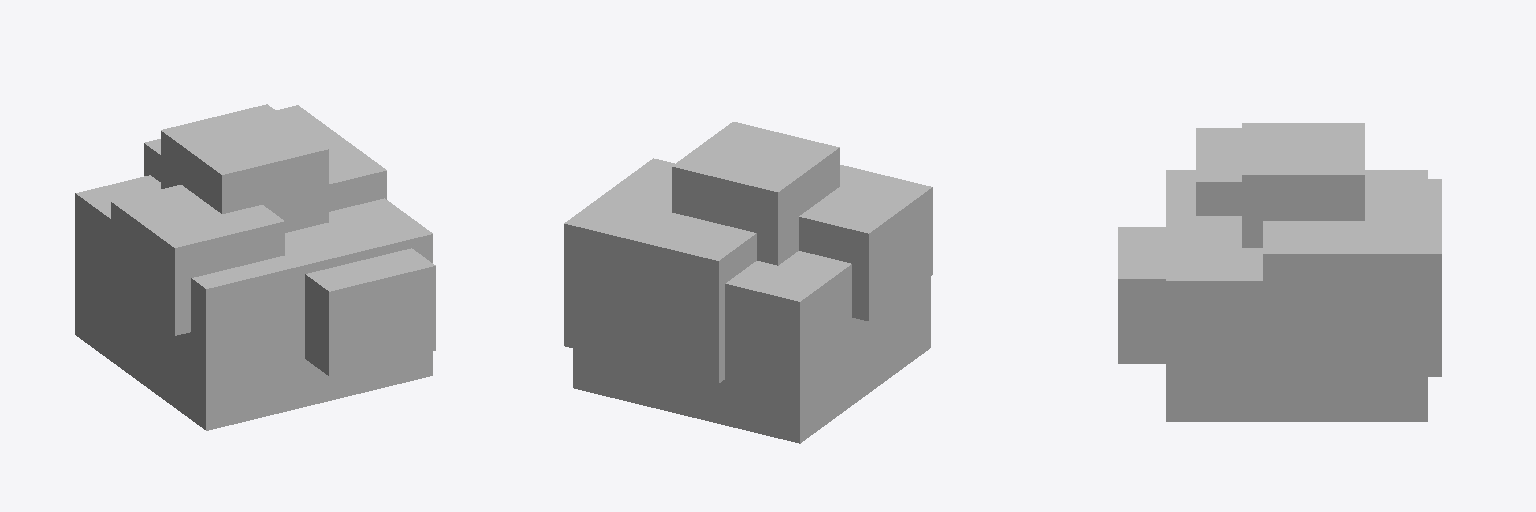
File: bush.obj
The picture shows the model from 3 angles: view 1: azimuth 30°, elevation 25°; view 2: azimuth 150°, elevation 25°; view 3: azimuth 270°, elevation 25°; orthographic projection.
Parts seen in each view (by area): view 1: Cube.003_Cube.004; view 2: Cube.003_Cube.004; view 3: Cube.003_Cube.004.
Part boxes in pixels (left/top/right/bottom): Cube.003_Cube.004: left=75, top=104, right=435, bottom=430; Cube.003_Cube.004: left=564, top=122, right=932, bottom=443; Cube.003_Cube.004: left=1118, top=123, right=1441, bottom=421.
Size of the model in its own units: 1.91 by 1.59 by 2.17.